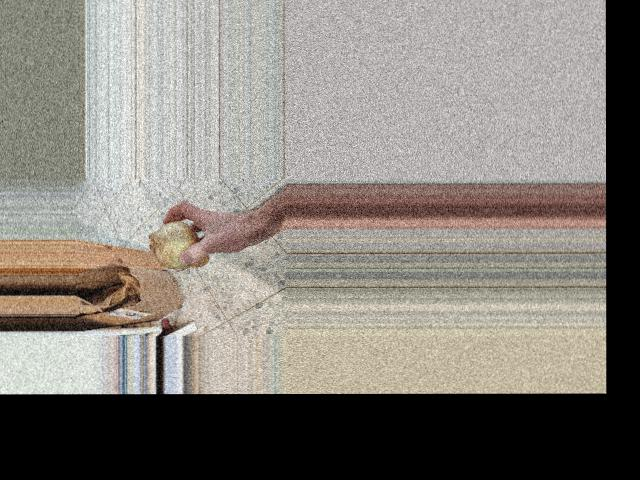onion: (147, 217, 209, 272)
